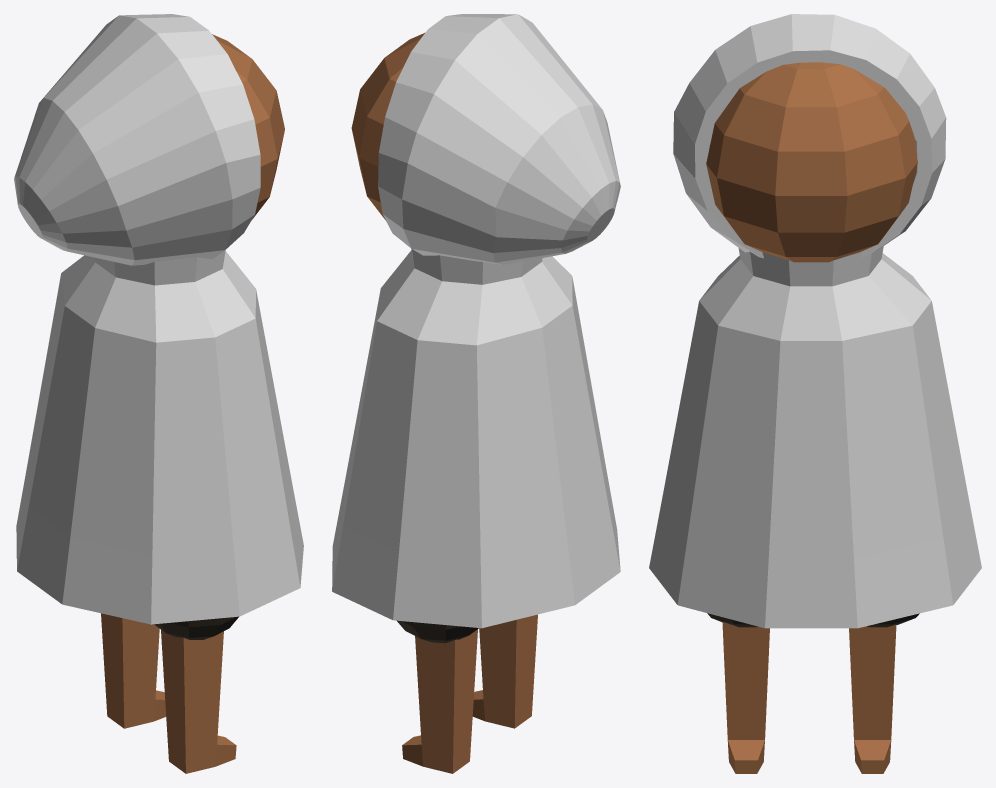
The model's file is nomad1.fbx.
3 views of the same model, side by side, from view 1: azimuth 30°, elevation 25°; view 2: azimuth 150°, elevation 25°; view 3: azimuth 270°, elevation 25° (orthographic). The views are drawn at different scales.
Visible parts, largest first — view 1: Poncho, Hood, Leg 1, Leg 2, Head, pants; view 2: Poncho, Hood, Leg 2, Leg 1, Head, pant; view 3: Poncho, Head, Hood, Leg 1, Leg 2.
Part boxes in pixels (x1,y1,x2,y2): Poncho: [16, 250, 303, 624]; Hood: [14, 14, 260, 265]; Leg 1: [161, 630, 236, 773]; Leg 2: [101, 613, 166, 728]; Head: [212, 34, 284, 219]; pants: [154, 616, 238, 639]; Poncho: [332, 248, 620, 628]; Hood: [378, 14, 620, 264]; Leg 2: [402, 629, 477, 773]; Leg 1: [472, 614, 537, 728]; Head: [351, 33, 424, 220]; pant: [397, 620, 478, 643]; Poncho: [649, 246, 981, 628]; Head: [706, 62, 917, 262]; Hood: [673, 14, 946, 258]; Leg 1: [722, 622, 769, 773]; Leg 2: [849, 624, 896, 773].
Size of the model in its own units: 219 by 588 by 242.
